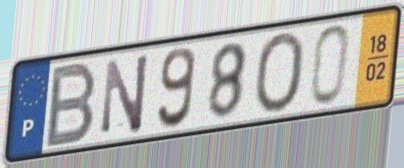0: (307, 20, 356, 110)
8: (205, 38, 251, 122)
9: (157, 44, 199, 131)
B: (42, 58, 100, 151)
N: (100, 50, 152, 138)
O: (251, 29, 307, 116)
